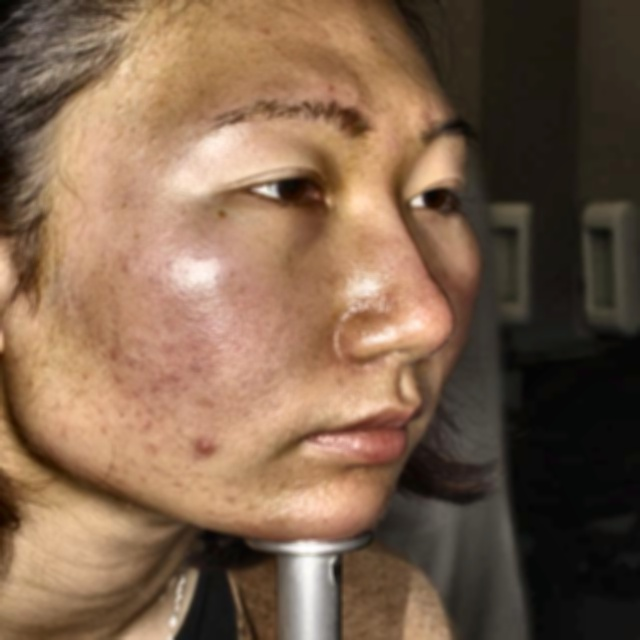comedone: (187, 433, 219, 463)
